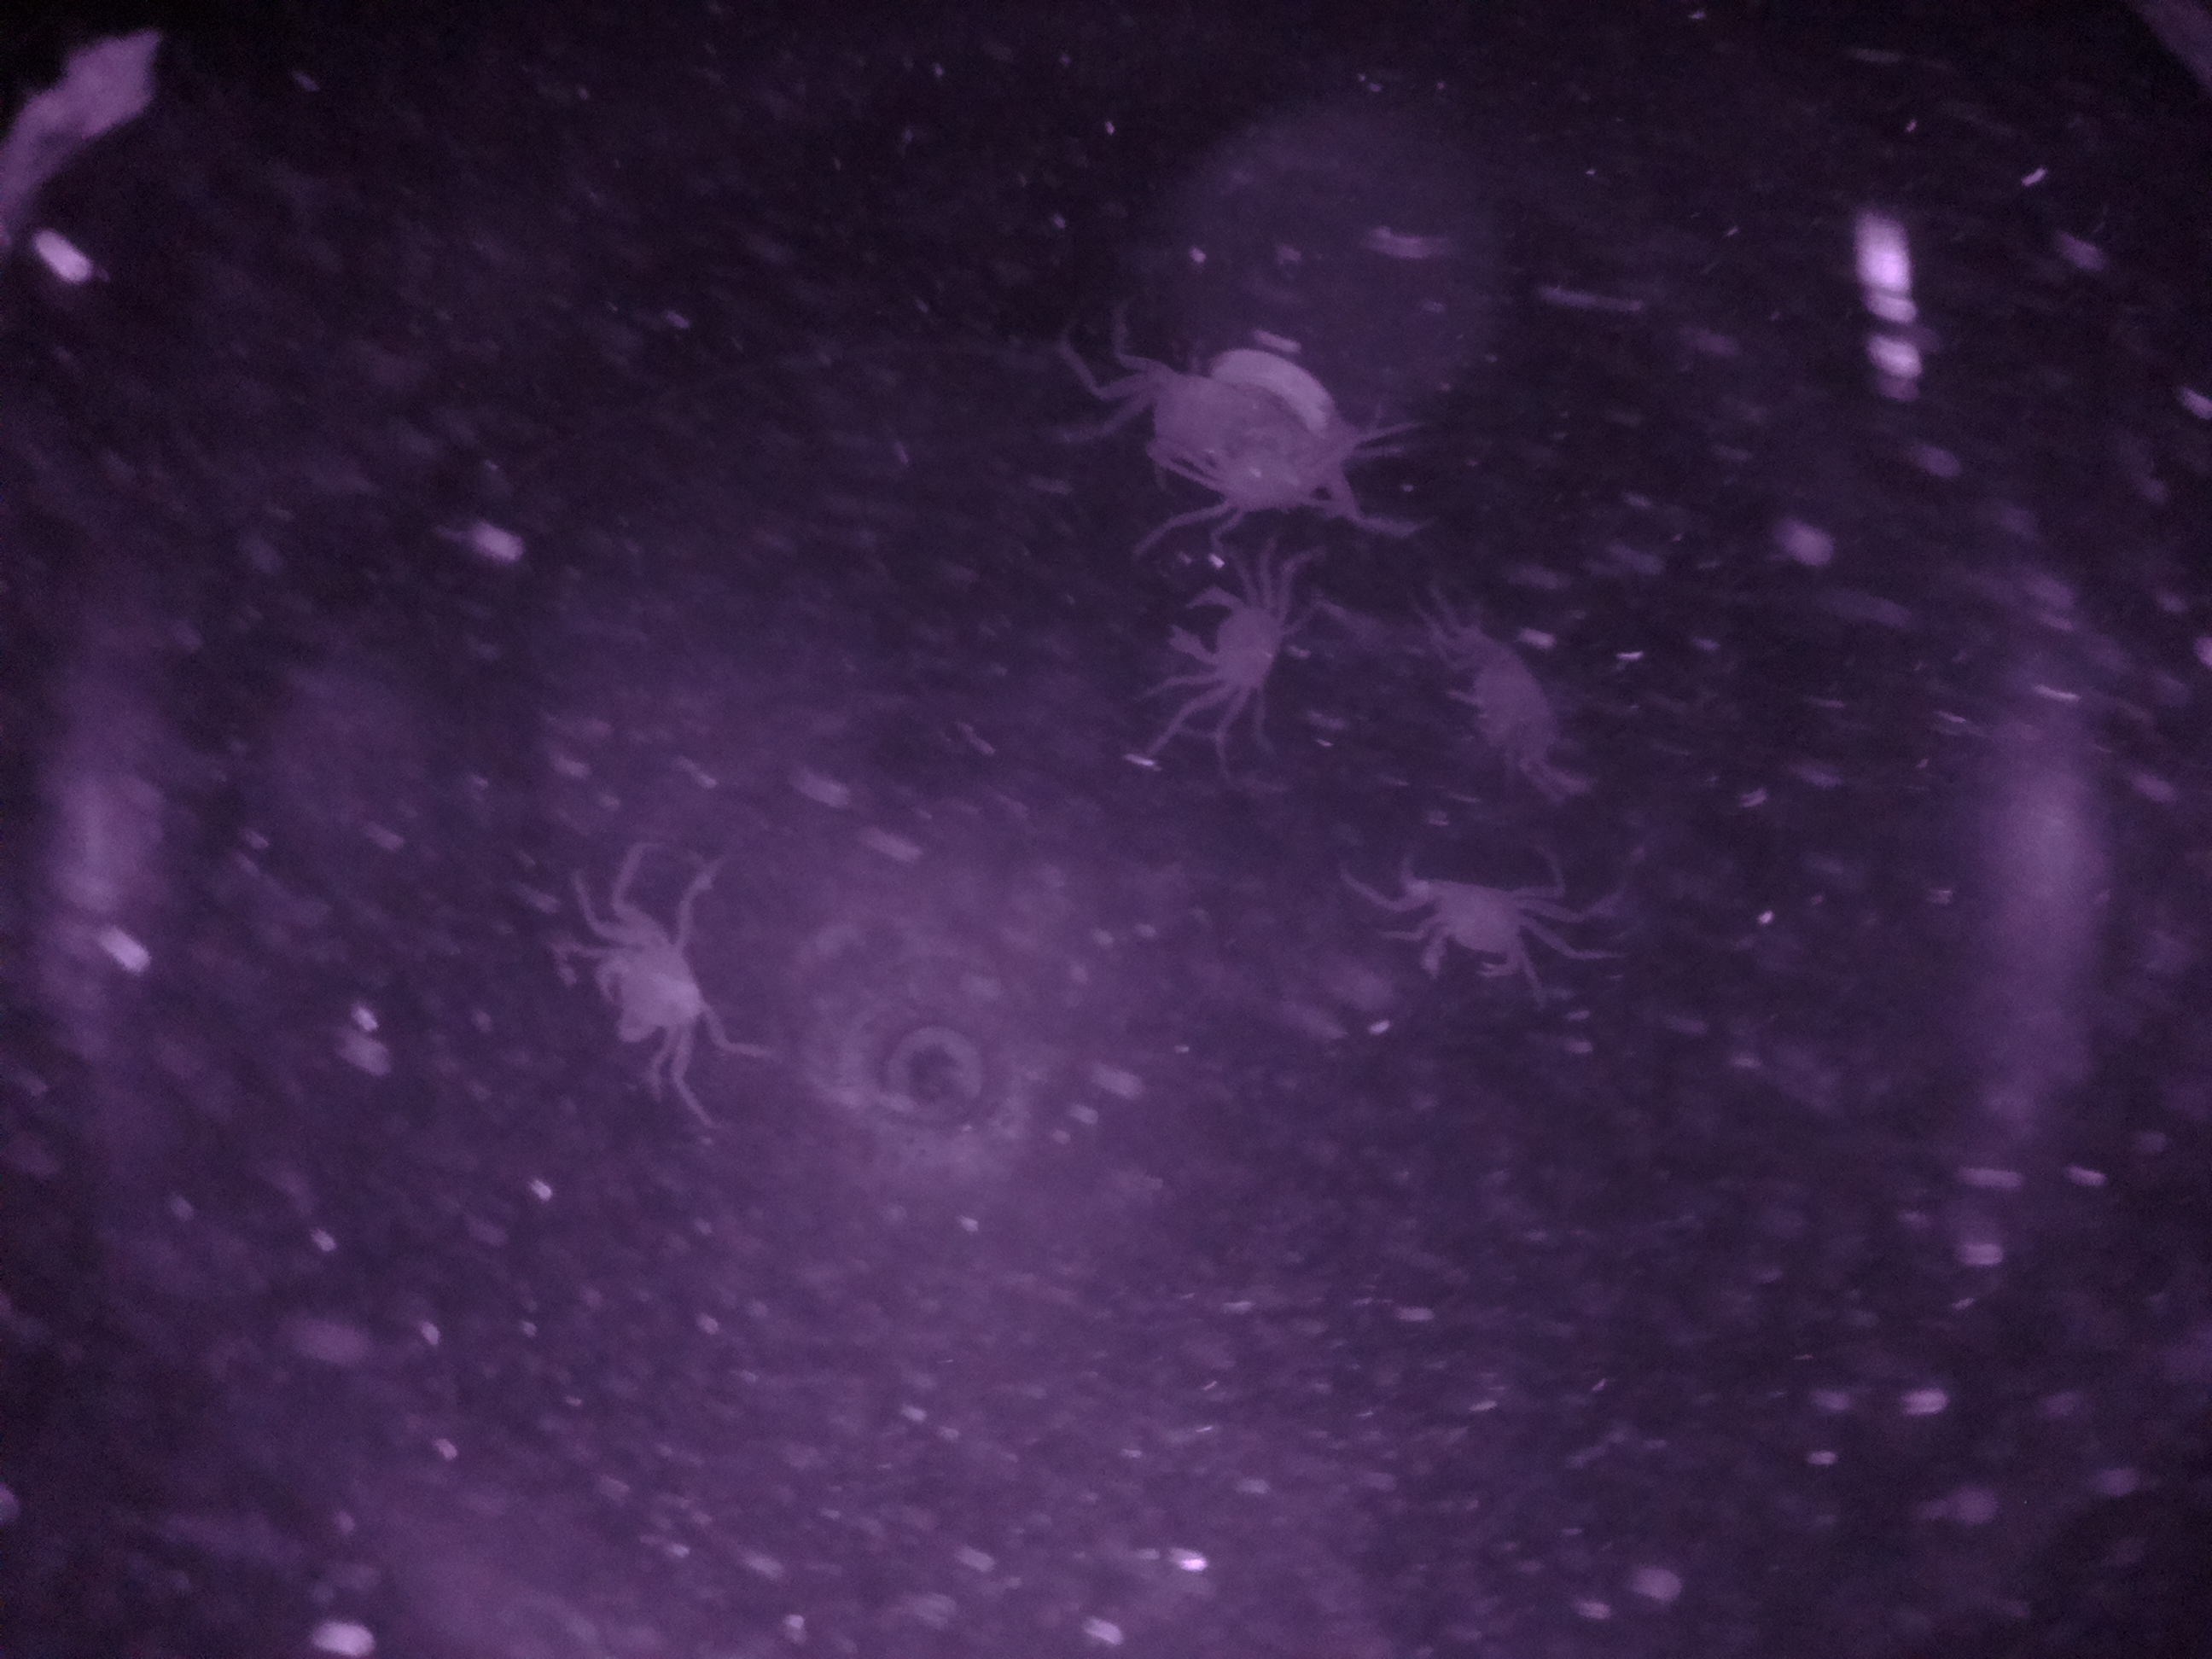Crab: (571, 894, 738, 1108), (1148, 542, 1306, 741), (1374, 861, 1587, 990)
